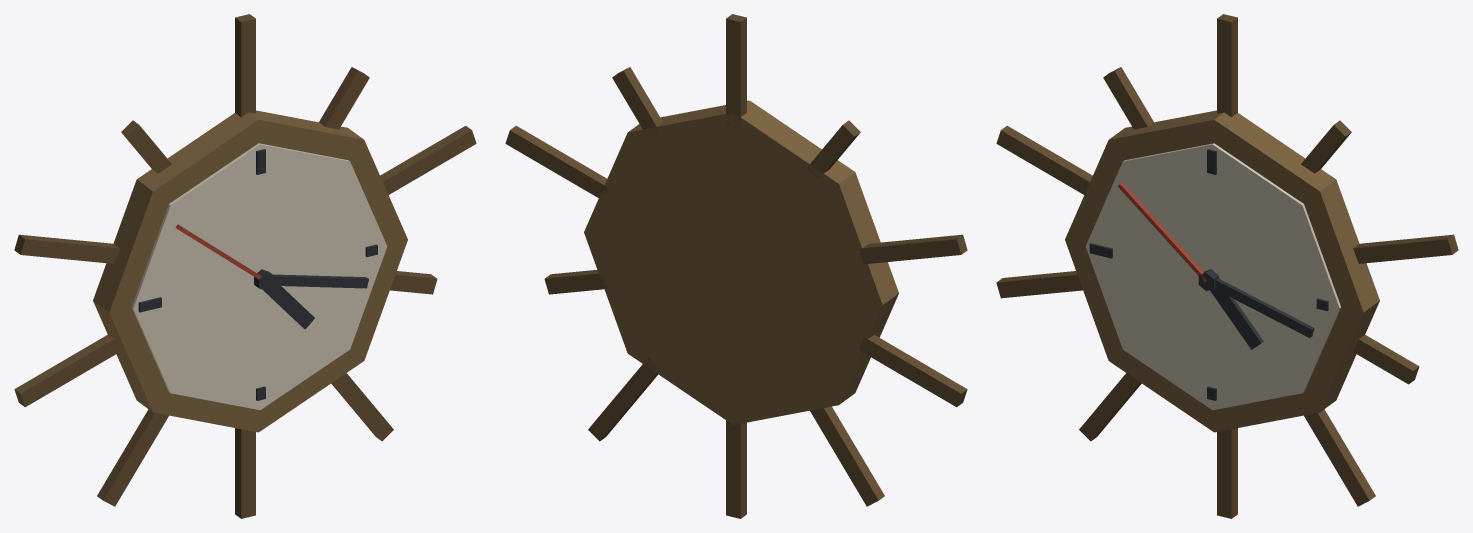
File: wall-clock-08.glb
3 renders of one model, left to right at view 1: azimuth 30°, elevation 25°; view 2: azimuth 150°, elevation 25°; view 3: azimuth 330°, elevation 25°, orthographic.
Parts seen in each view (by area): view 1: wall_clock_08; view 2: wall_clock_08; view 3: wall_clock_08.
Boxes of the visible parts, box(x1,y1,x2,y2) form: wall_clock_08: box(14, 14, 476, 518); wall_clock_08: box(505, 14, 967, 518); wall_clock_08: box(996, 14, 1458, 518).
Size of the model in its own units: 0.6219 by 0.6475 by 0.0577.
